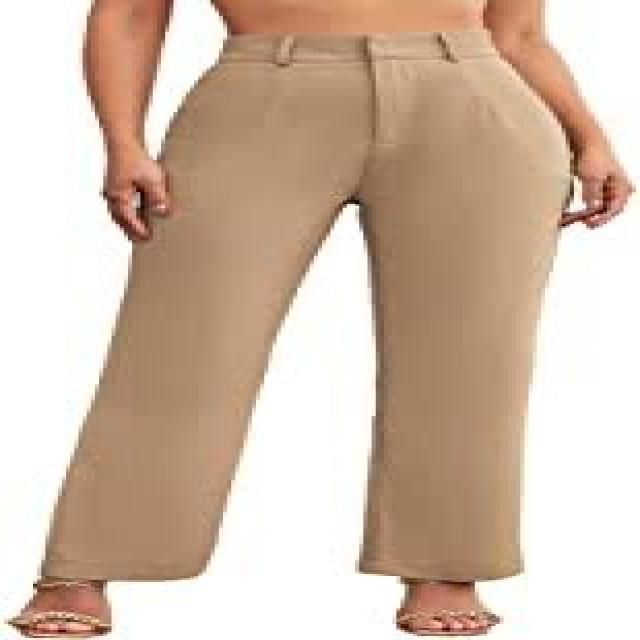pants: (46, 30, 582, 581)
